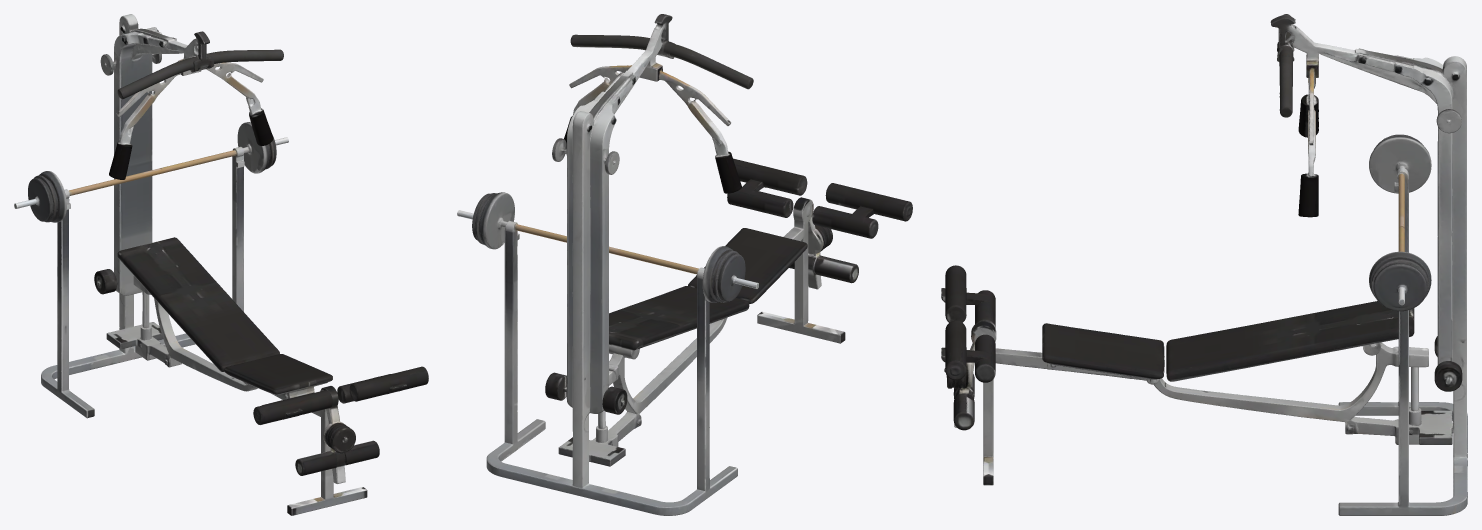
Rendered from gym2.glb.
3 renders of one model, left to right at view 1: azimuth 30°, elevation 25°; view 2: azimuth 150°, elevation 25°; view 3: azimuth 270°, elevation 25°, orthographic. The views are drawn at different scales.
Visible parts, largest first — view 1: model; view 2: model; view 3: model.
Part boxes in pixels (left/top/right/bottom): model: left=14, top=14, right=428, bottom=515; model: left=457, top=14, right=912, bottom=515; model: left=941, top=14, right=1467, bottom=515.
Size of the model in its own units: 1.33 by 1.78 by 1.9.
Materials: 1 (1 with a texture image).
